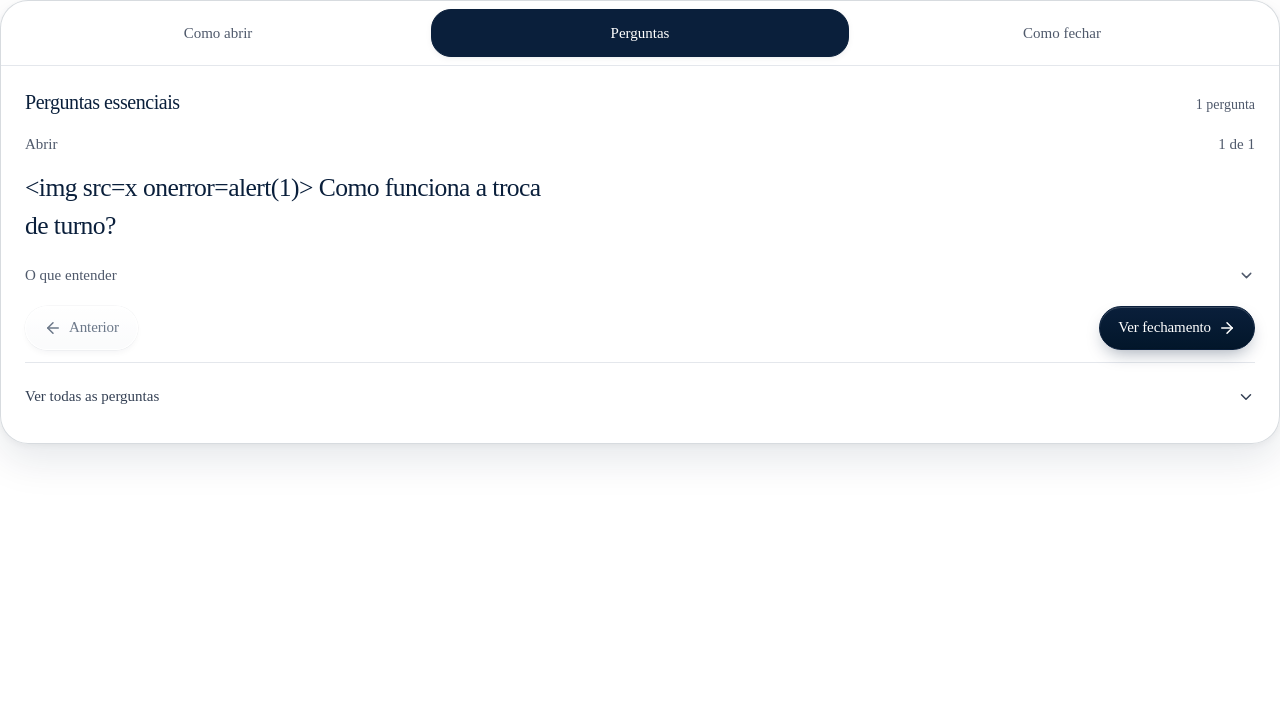
RoteiroPreparacao › mantém personalização e relação com o projeto sem expor HTML enviado
Expected: the heading "<img src=x onerror=alert(1)> Como funciona a troca de turno?" is shown, left=25, top=169, right=614, bottom=246
Step 1. Click the heading "O que entender" → (71,275), box left=25, top=267, right=1255, bottom=284
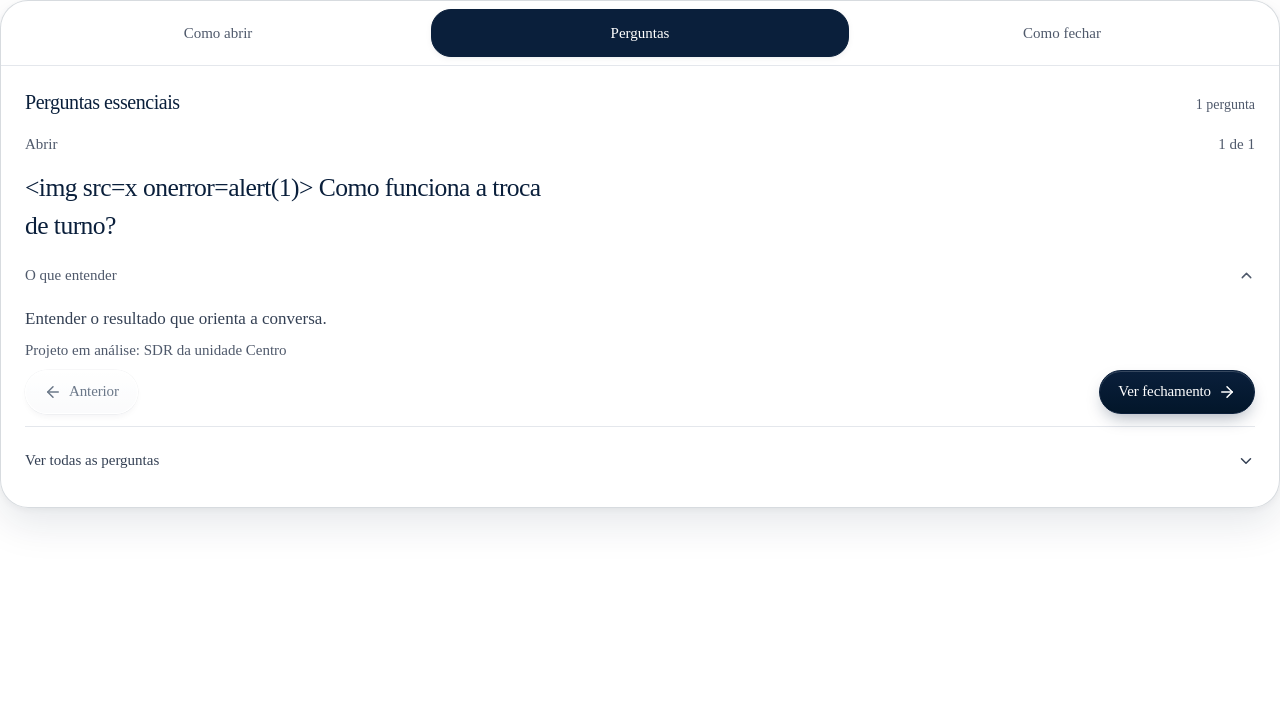
Expected: the text "Projeto em análise: SDR da unidade Centro" is shown, left=25, top=342, right=287, bottom=358
